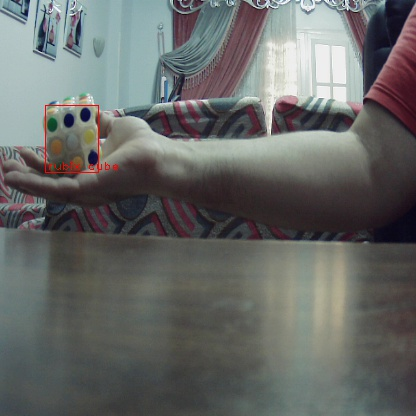Rubix Cube: (42, 91, 104, 177)
